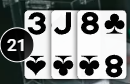3: (26, 11, 49, 35)
8: (78, 10, 102, 36)
j: (51, 11, 76, 35)
